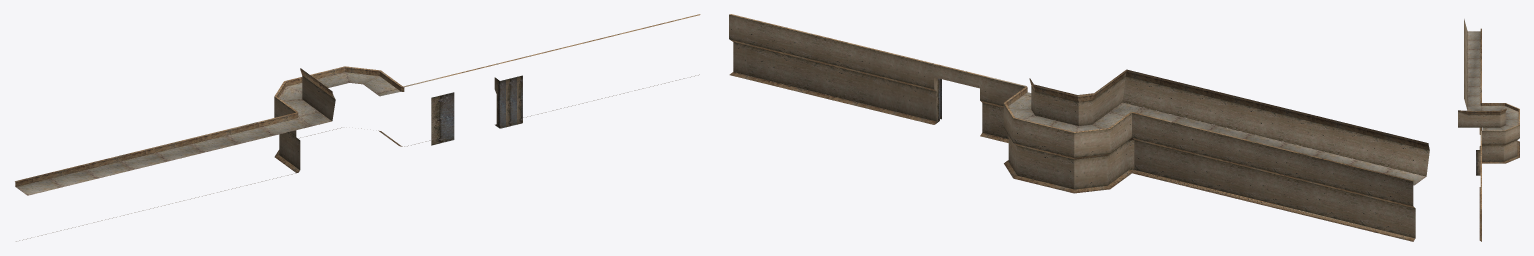
The model's file is M11_CompWallOuter_A.glb.
3 views of the same model, side by side, from view 1: azimuth 30°, elevation 25°; view 2: azimuth 150°, elevation 25°; view 3: azimuth 270°, elevation 25° (orthographic). The views are drawn at different scales.
Parts seen in each view (by area): view 1: M11_COMPWALLOUTER_A; view 2: M11_COMPWALLOUTER_A; view 3: M11_COMPWALLOUTER_A.
Boxes of the visible parts, x1,y1,x2,y2 form: M11_COMPWALLOUTER_A: (15, 14, 700, 241); M11_COMPWALLOUTER_A: (729, 14, 1429, 241); M11_COMPWALLOUTER_A: (1458, 19, 1519, 241).
Size of the model in its own units: 90 by 11 by 13.
Materials: 4 (4 with a texture image).
